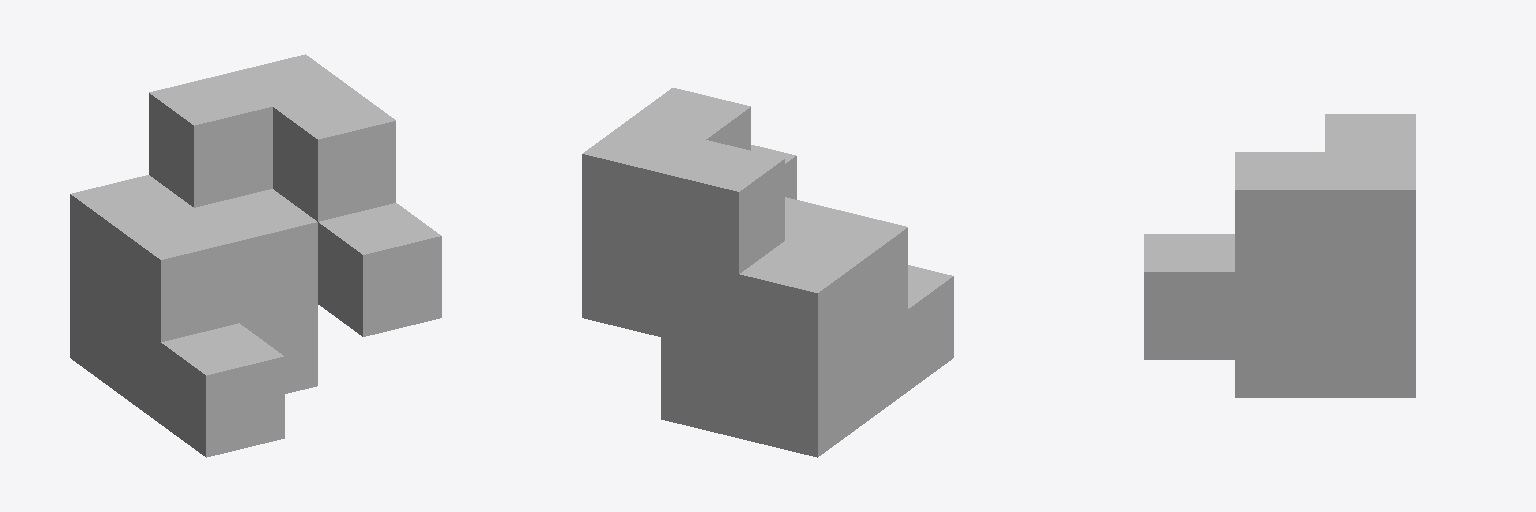
The model's file is кгruda zolota.obj.
The picture shows the model from 3 angles: view 1: azimuth 30°, elevation 25°; view 2: azimuth 150°, elevation 25°; view 3: azimuth 270°, elevation 25°; orthographic projection.
Bounding box in the file's own units: 3 × 3 × 3.